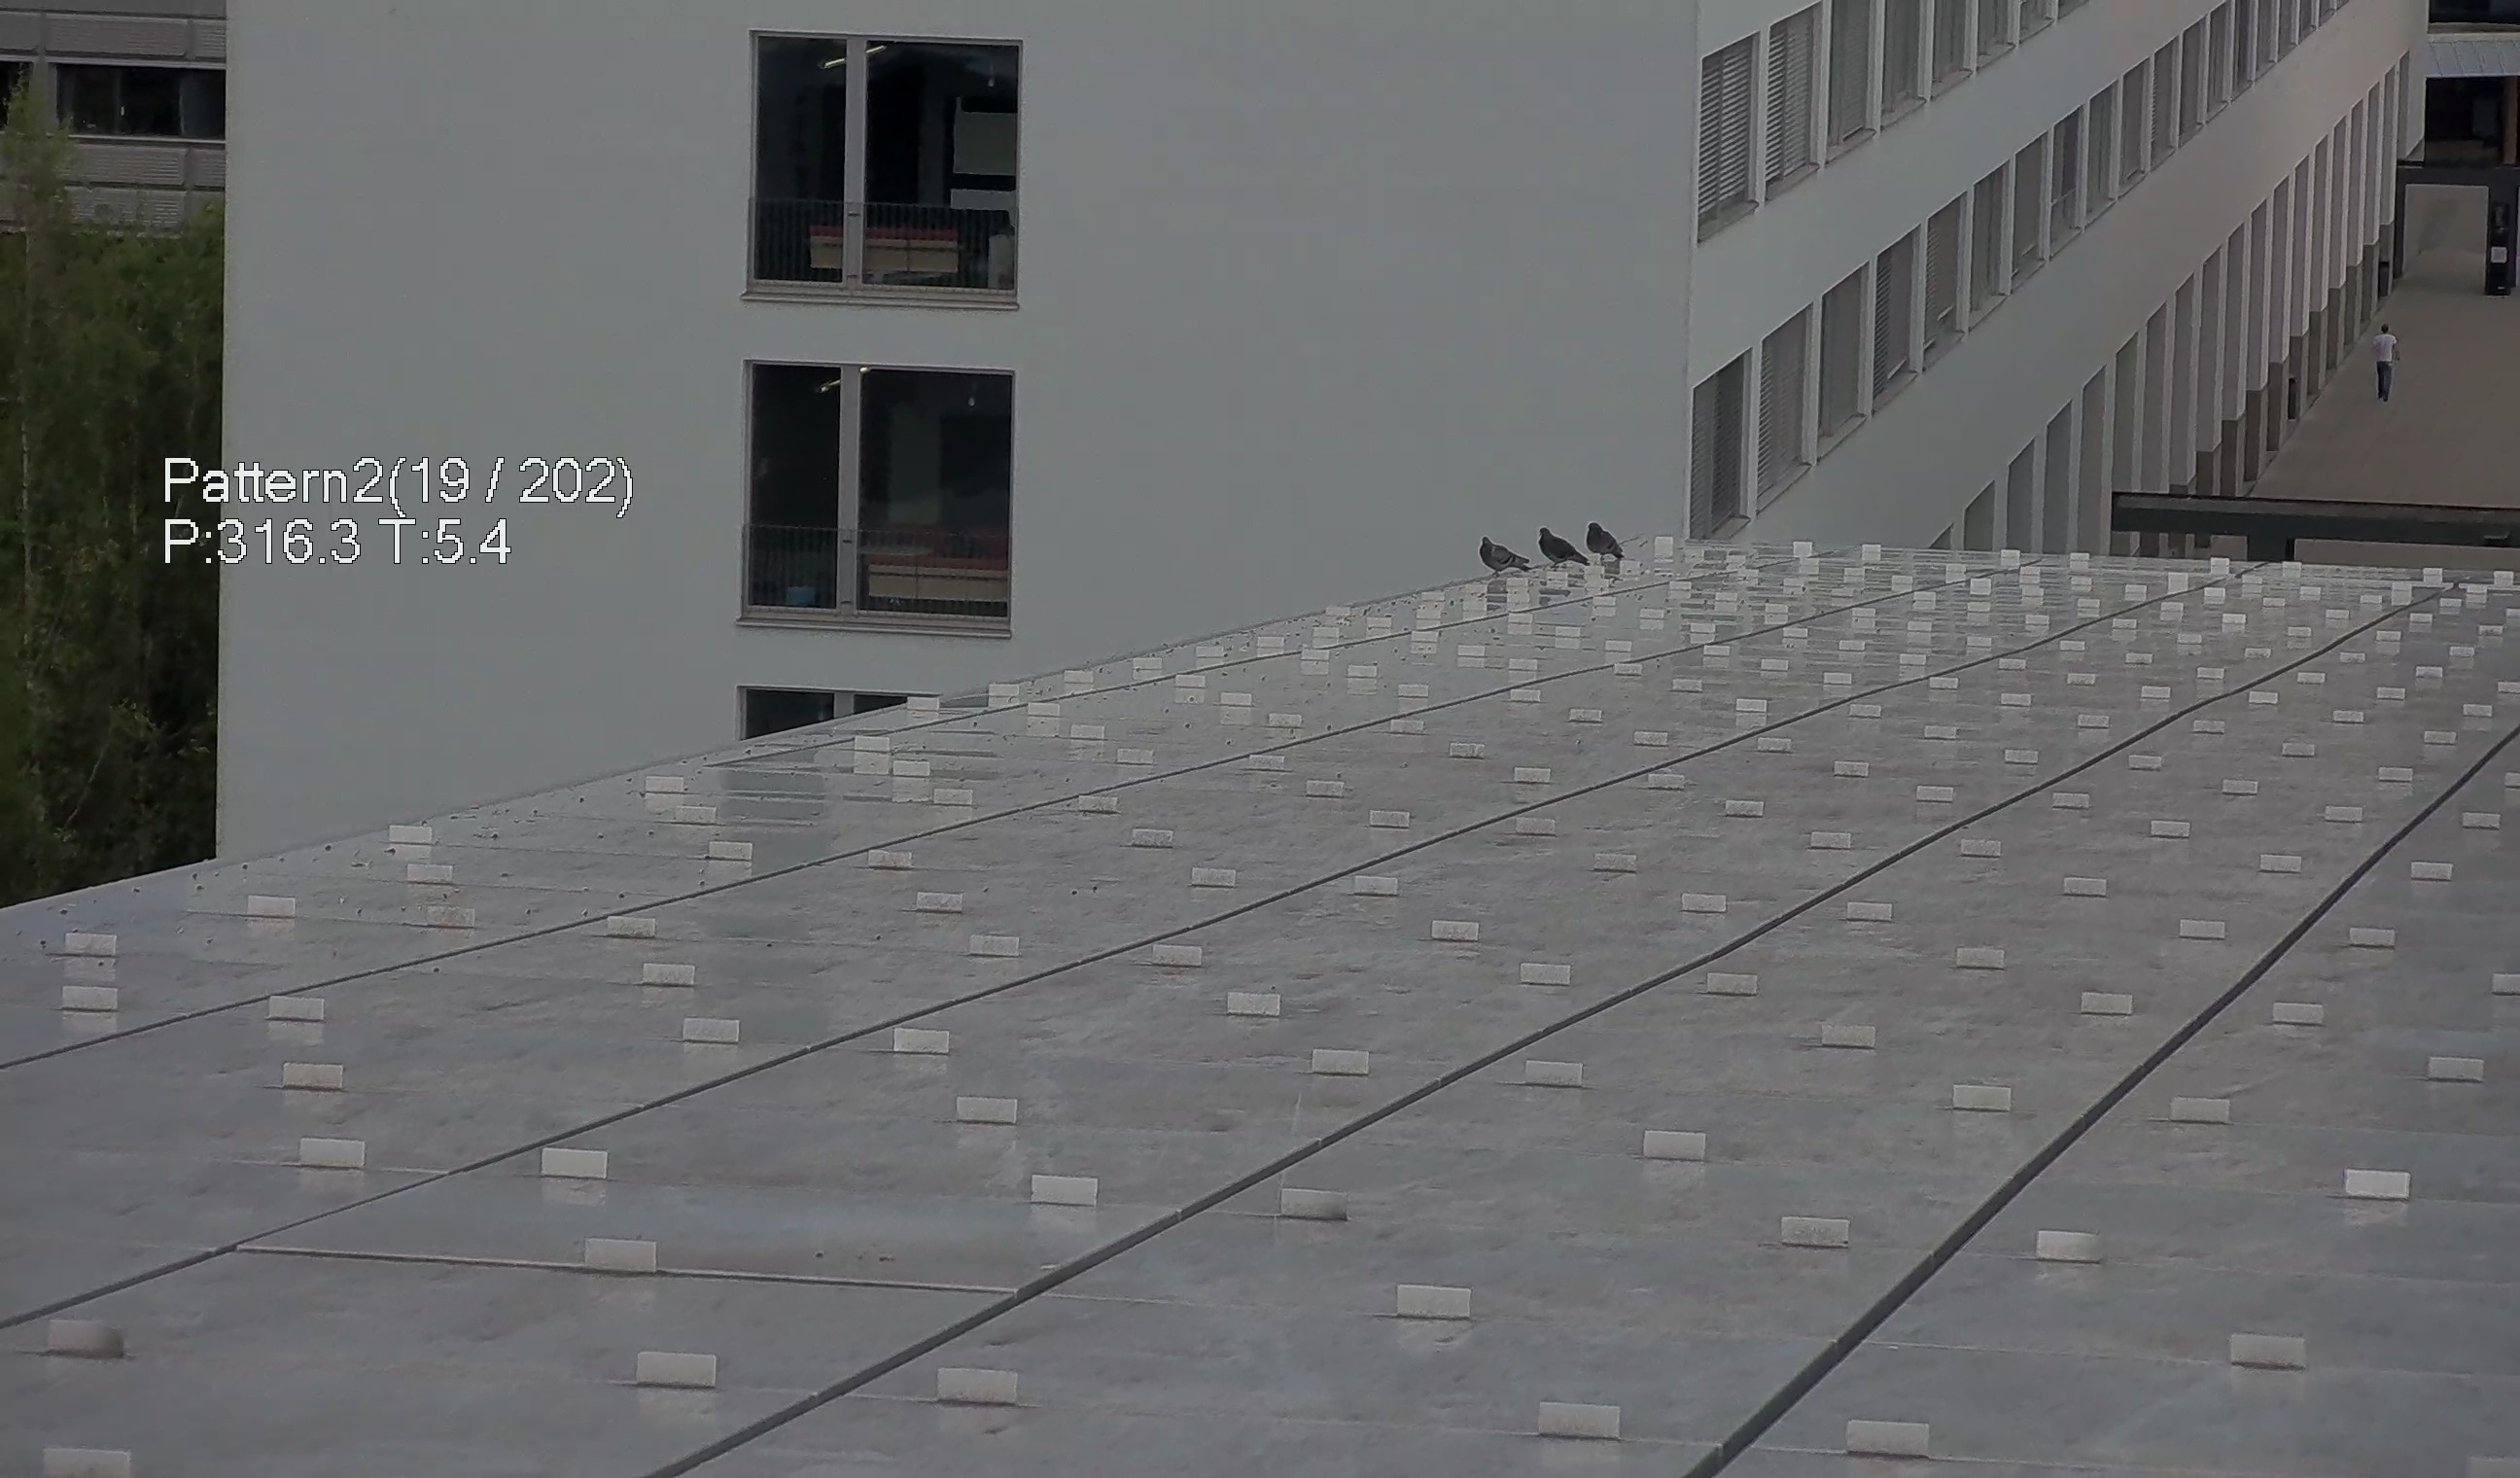Pigeon: (1528, 523, 1591, 575), (1474, 533, 1542, 577), (1579, 507, 1632, 558)
